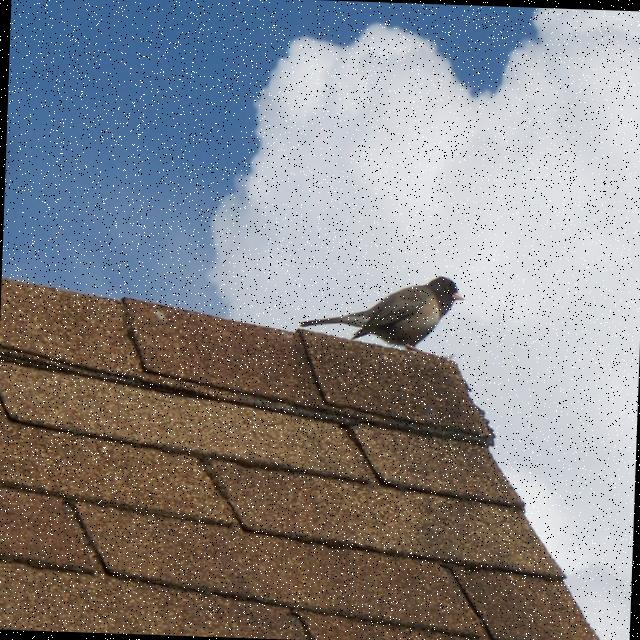bird: (294, 269, 466, 358)
